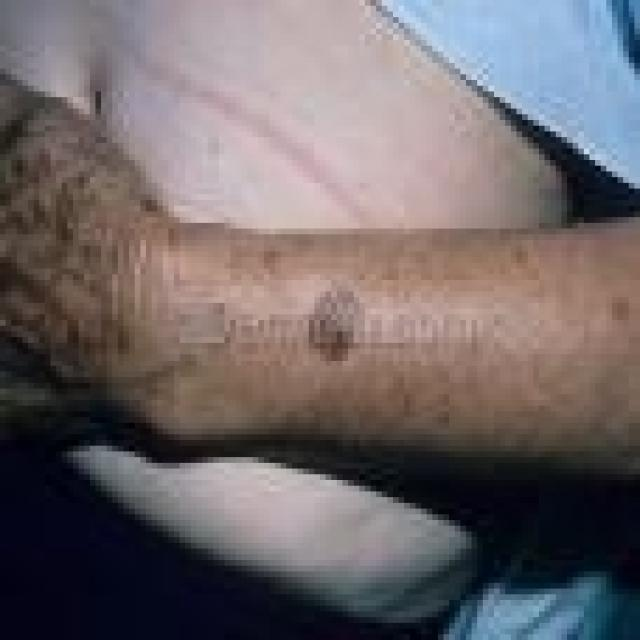Melasma: (0, 121, 123, 382)
